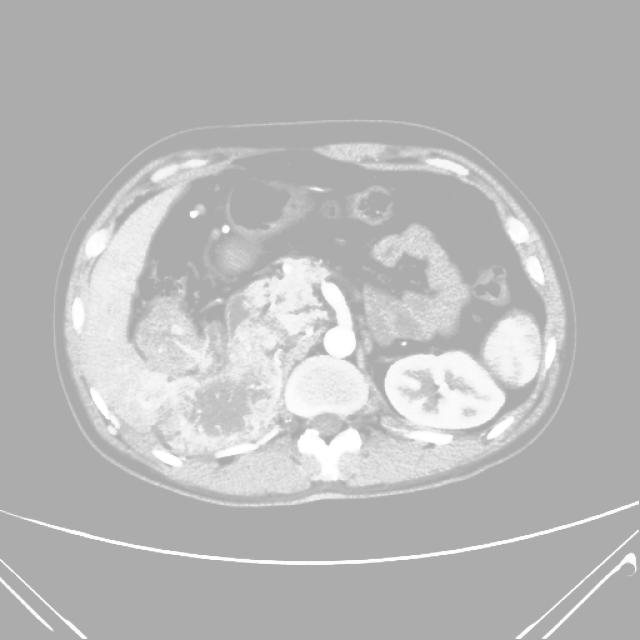TUMOR: (125, 162, 514, 409)
